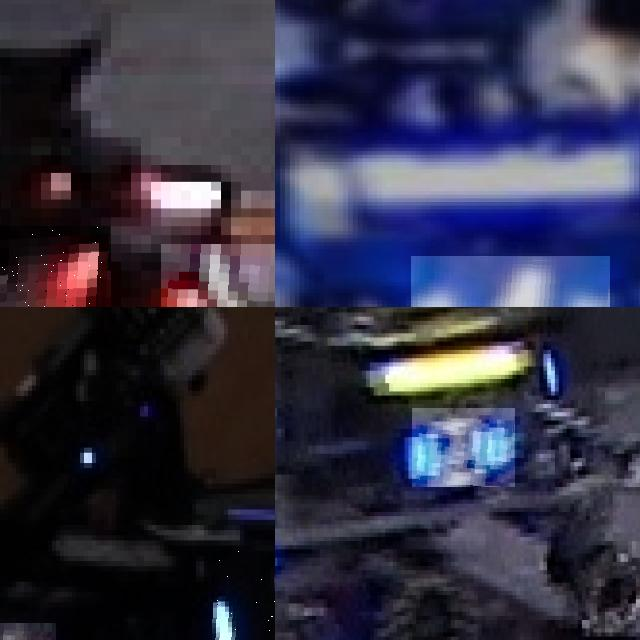B2: (412, 408, 516, 487)
B3: (212, 551, 275, 640)
B4: (411, 256, 610, 307)
R4: (0, 226, 111, 307), (161, 243, 275, 307)
